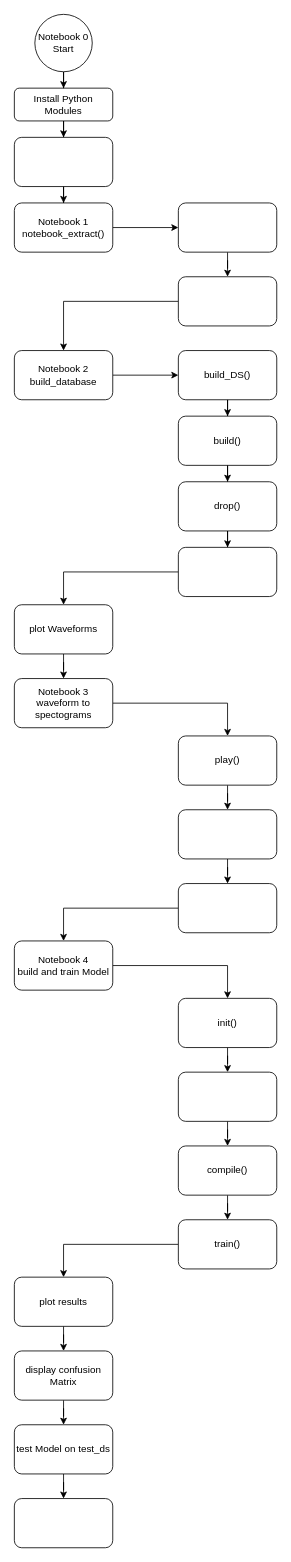
This 291x1562 diagram has some shape labels left out. Each missing label, with the centre of its shape:
"build_model()" goes at point (227, 1096).
"export Model" goes at point (63, 1523).
"extract all 3 Zips in Data_Dir" goes at point (227, 227).
"extract()" goes at point (227, 572).
"Import Modules Import Notebooks Set DIRs" goes at point (63, 162).
"plot()" goes at point (227, 908).
"Rename all Files in DATA_DIR" goes at point (227, 301).
"small_plot()" goes at point (227, 834).
